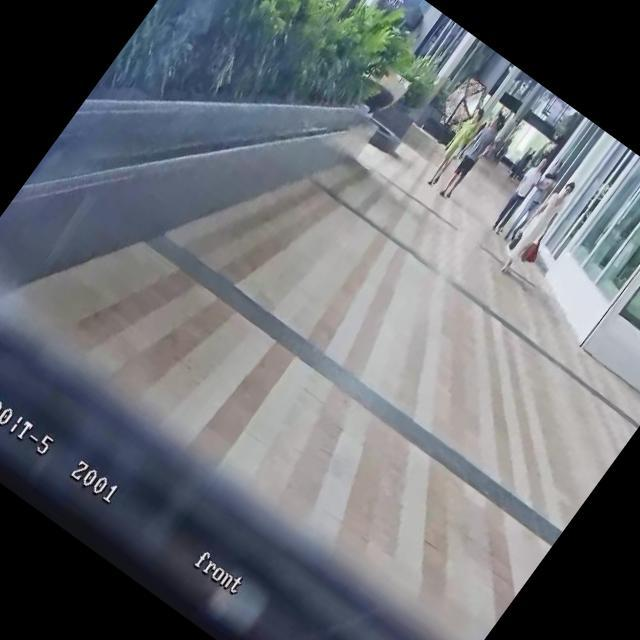person: (494, 173, 580, 280), (433, 108, 508, 202), (498, 155, 570, 246), (420, 103, 490, 189), (487, 154, 552, 237), (506, 143, 535, 180), (508, 146, 537, 182), (510, 146, 539, 182), (492, 137, 516, 166)
